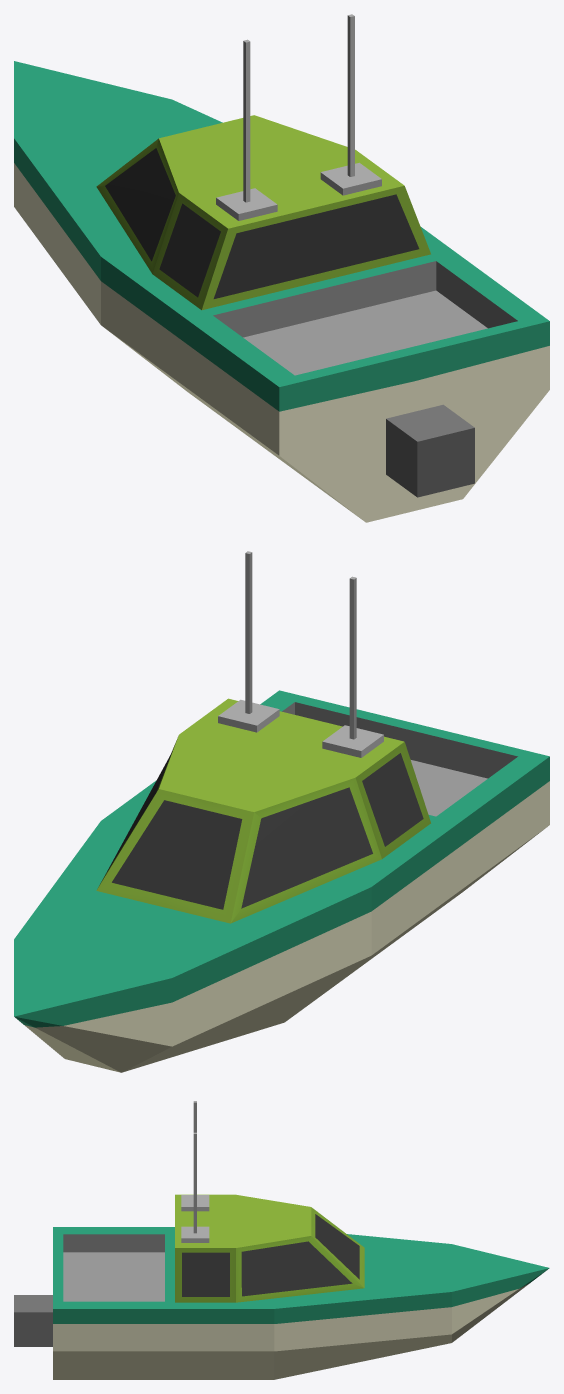
Rendered from Boat_03_Green.glb.
The picture shows the model from 3 angles, top to bottom: view 1: azimuth 30°, elevation 25°; view 2: azimuth 150°, elevation 25°; view 3: azimuth 270°, elevation 25°; orthographic projection. The views are drawn at different scales.
Parts seen in each view (by area): view 1: Vehicle_Boat_03; view 2: Vehicle_Boat_03; view 3: Vehicle_Boat_03.
Part boxes in pixels (x1=…): Vehicle_Boat_03: x1=14, y1=14, x2=549, y2=522; Vehicle_Boat_03: x1=14, y1=551, x2=549, y2=1072; Vehicle_Boat_03: x1=14, y1=1101, x2=549, y2=1379.
Bounding box in the file's own units: 2.5 × 3.52 × 6.92.
1 material, 1 textured.
